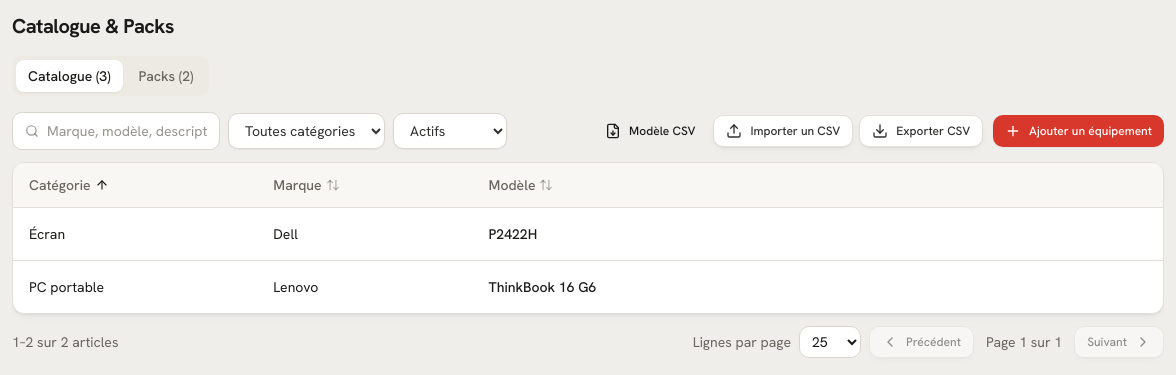
Test case: CataloguePage › filtre le catalogue par catégorie
Expected: the text "Lenovo" is shown, [257,260,472,313]
Select "Écran" in the dropdown named "Filtrer par catégorie" at (306, 131), box [228,113,385,149]
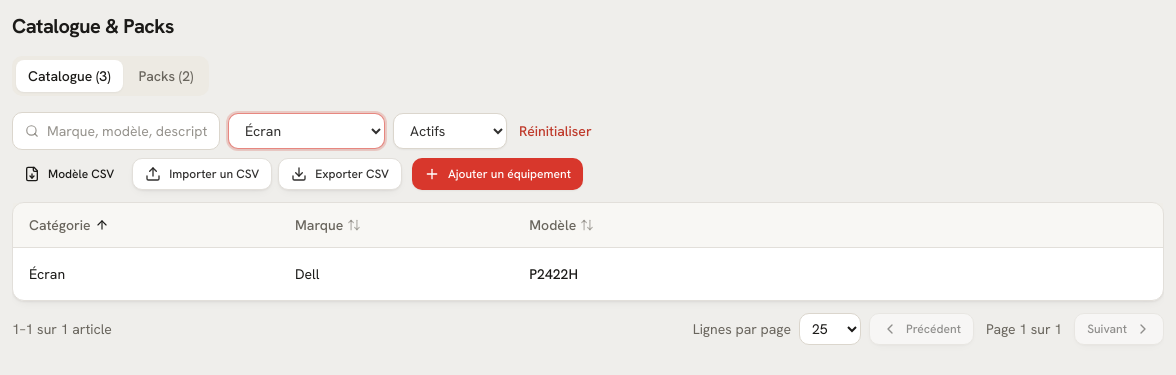
Expected: the text "Dell" is shown, [279,248,513,300]
Now the text "Lenovo" is gone
